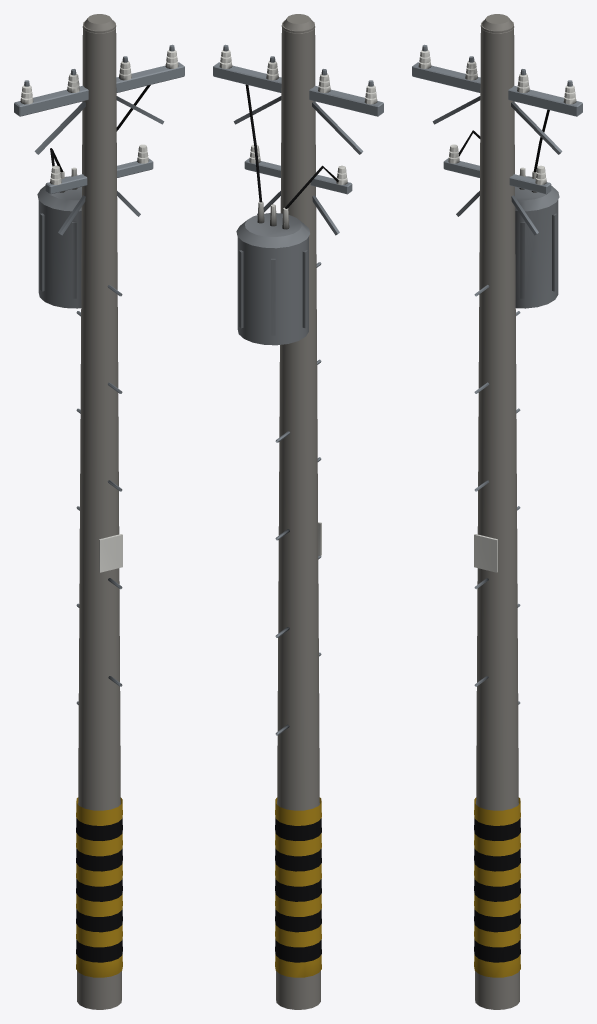
Rendered from prop.town.utility_pole.glb.
3 renders of one model, left to right at view 1: azimuth 30°, elevation 25°; view 2: azimuth 150°, elevation 25°; view 3: azimuth 330°, elevation 25°, orthographic.
Parts seen in each view (by area): view 1: v0_LOD0, v1_LOD0; view 2: v0_LOD0, v1_LOD0; view 3: v0_LOD0, v1_LOD0.
Part boxes in pixels (x1,y1,x2,y2): v0_LOD0: [14, 14, 184, 1009]; v1_LOD0: [37, 85, 150, 308]; v0_LOD0: [213, 14, 383, 1009]; v1_LOD0: [236, 84, 338, 345]; v0_LOD0: [412, 14, 582, 1009]; v1_LOD0: [458, 109, 559, 308].
Size of what is drawn, in the model's own units: 1.6 by 9.05 by 1.09.
